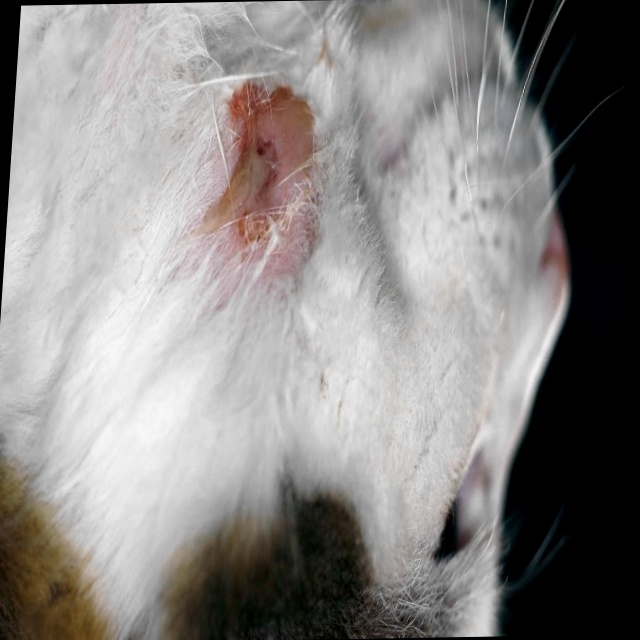lump_and_bump: (220, 78, 326, 275)
